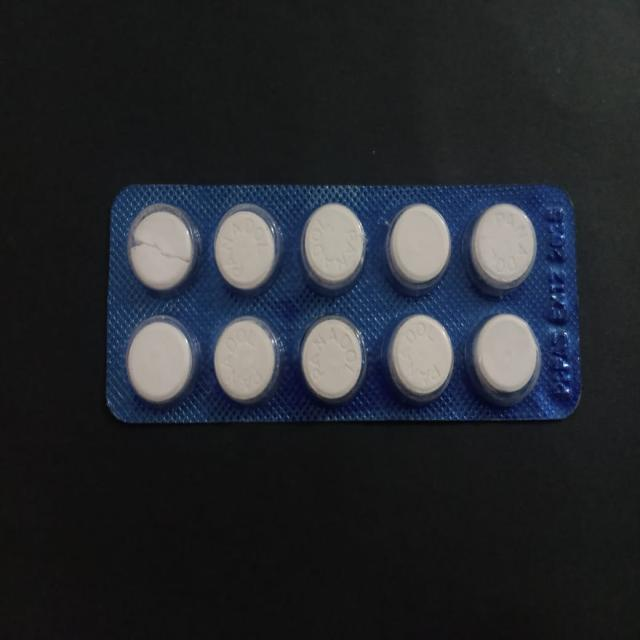defect: (126, 202, 200, 296)
